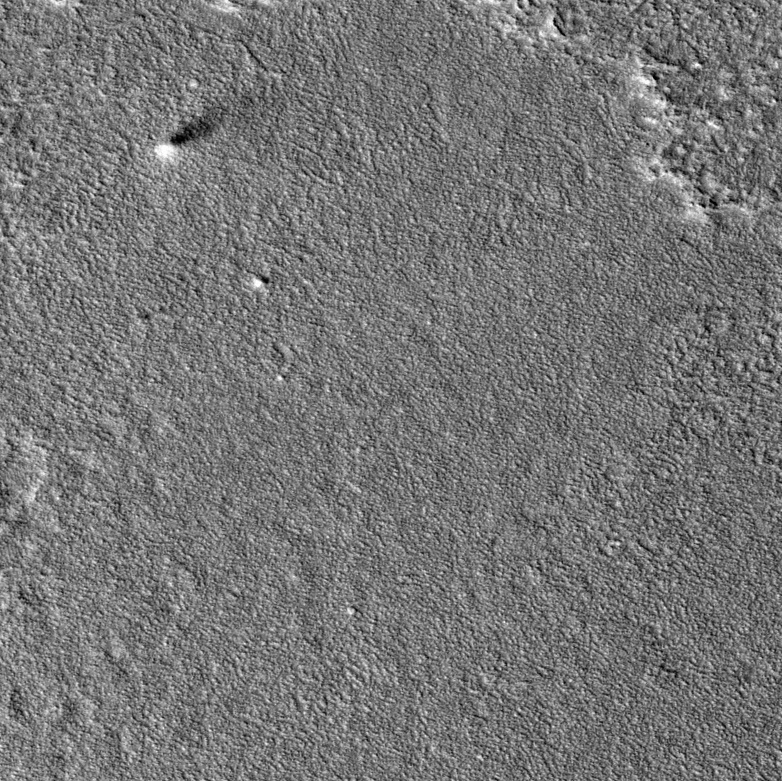dust_devil: (152, 105, 229, 160)
